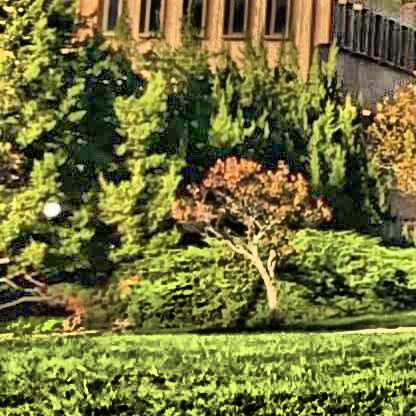golfball: (38, 199, 59, 214)
